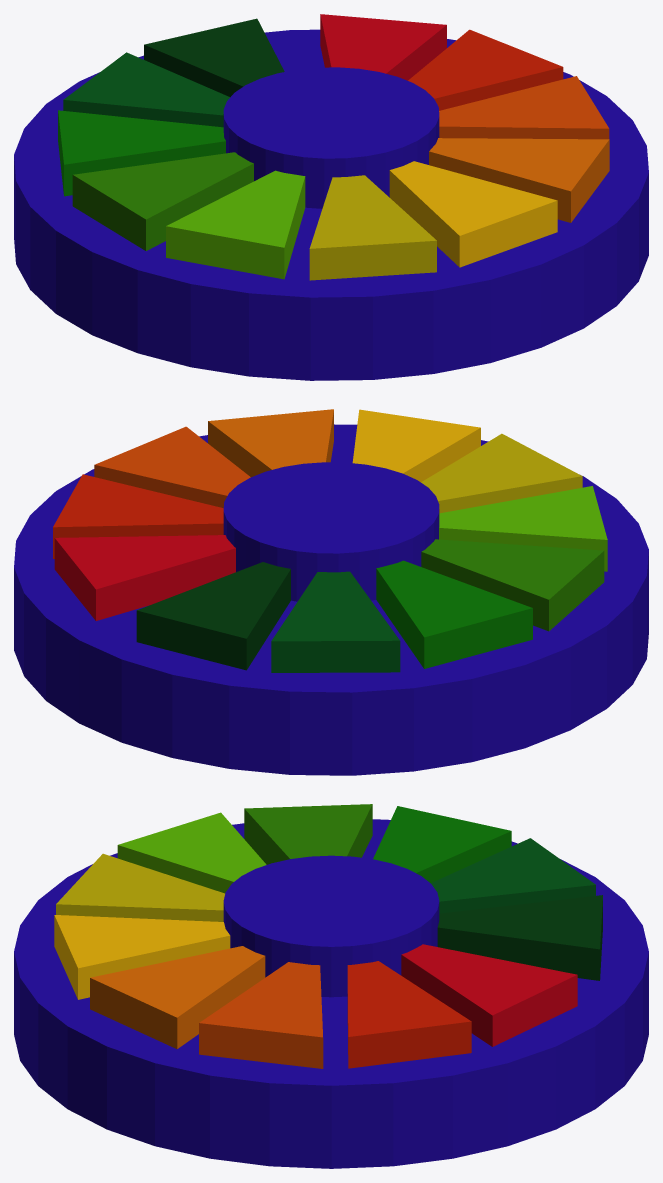
Rendered from phpaper.fbx.
The picture shows the model from 3 angles, top to bottom: view 1: azimuth 30°, elevation 25°; view 2: azimuth 150°, elevation 25°; view 3: azimuth 270°, elevation 25°; orthographic projection.
Parts seen in each view (by area): view 1: Cylinder, Cylinder.001, Cylinder.008, Cylinder.005, Cylinder.006, Cylinder.007, Cylinder.009, Cylinder.004, Cylinder.010, Cylinder.003, Cylinder.011, Cylinder.002 (+1 smaller); view 2: Cylinder, Cylinder.001, Cylinder.012, Cylinder.004, Cylinder.002, Cylinder.003, Cylinder.005, Cylinder.006, Cylinder.011, Cylinder.007, Cylinder.010, Cylinder.009 (+1 smaller); view 3: Cylinder, Cylinder.001, Cylinder.009, Cylinder.012, Cylinder.002, Cylinder.011, Cylinder.010, Cylinder.008, Cylinder.007, Cylinder.003, Cylinder.006, Cylinder.005 (+1 smaller).
Boxes of the visible parts, bbox=[...] form: Cylinder: bbox=[14, 29, 648, 380]; Cylinder.001: bbox=[223, 67, 439, 208]; Cylinder.008: bbox=[389, 161, 557, 267]; Cylinder.005: bbox=[72, 152, 253, 250]; Cylinder.006: bbox=[166, 170, 305, 279]; Cylinder.007: bbox=[309, 175, 436, 280]; Cylinder.009: bbox=[429, 138, 609, 222]; Cylinder.004: bbox=[58, 110, 225, 196]; Cylinder.010: bbox=[439, 76, 609, 139]; Cylinder.003: bbox=[63, 52, 229, 127]; Cylinder.011: bbox=[408, 29, 563, 110]; Cylinder.002: bbox=[144, 18, 284, 97]; Cylinder: bbox=[14, 424, 648, 775]; Cylinder.001: bbox=[223, 462, 439, 601]; Cylinder.012: bbox=[54, 535, 235, 620]; Cylinder.004: bbox=[376, 560, 532, 668]; Cylinder.002: bbox=[136, 562, 290, 670]; Cylinder.003: bbox=[271, 571, 400, 672]; Cylinder.005: bbox=[421, 539, 604, 631]; Cylinder.006: bbox=[439, 486, 607, 571]; Cylinder.011: bbox=[53, 474, 223, 558]; Cylinder.007: bbox=[421, 433, 582, 513]; Cylinder.010: bbox=[94, 426, 250, 507]; Cylinder.009: bbox=[208, 409, 333, 477]; Cylinder: bbox=[14, 819, 648, 1168]; Cylinder.001: bbox=[223, 855, 439, 997]; Cylinder.009: bbox=[90, 946, 265, 1048]; Cylinder.012: bbox=[401, 944, 577, 1046]; Cylinder.002: bbox=[437, 895, 602, 980]; Cylinder.011: bbox=[347, 961, 471, 1068]; Cylinder.010: bbox=[199, 962, 323, 1068]; Cylinder.008: bbox=[54, 915, 230, 999]; Cylinder.007: bbox=[56, 853, 224, 921]; Cylinder.003: bbox=[431, 838, 595, 913]; Cylinder.006: bbox=[117, 812, 266, 893]; Cylinder.005: bbox=[244, 804, 372, 864].
Bounding box in the file's own units: 200 × 46.36 × 200.
